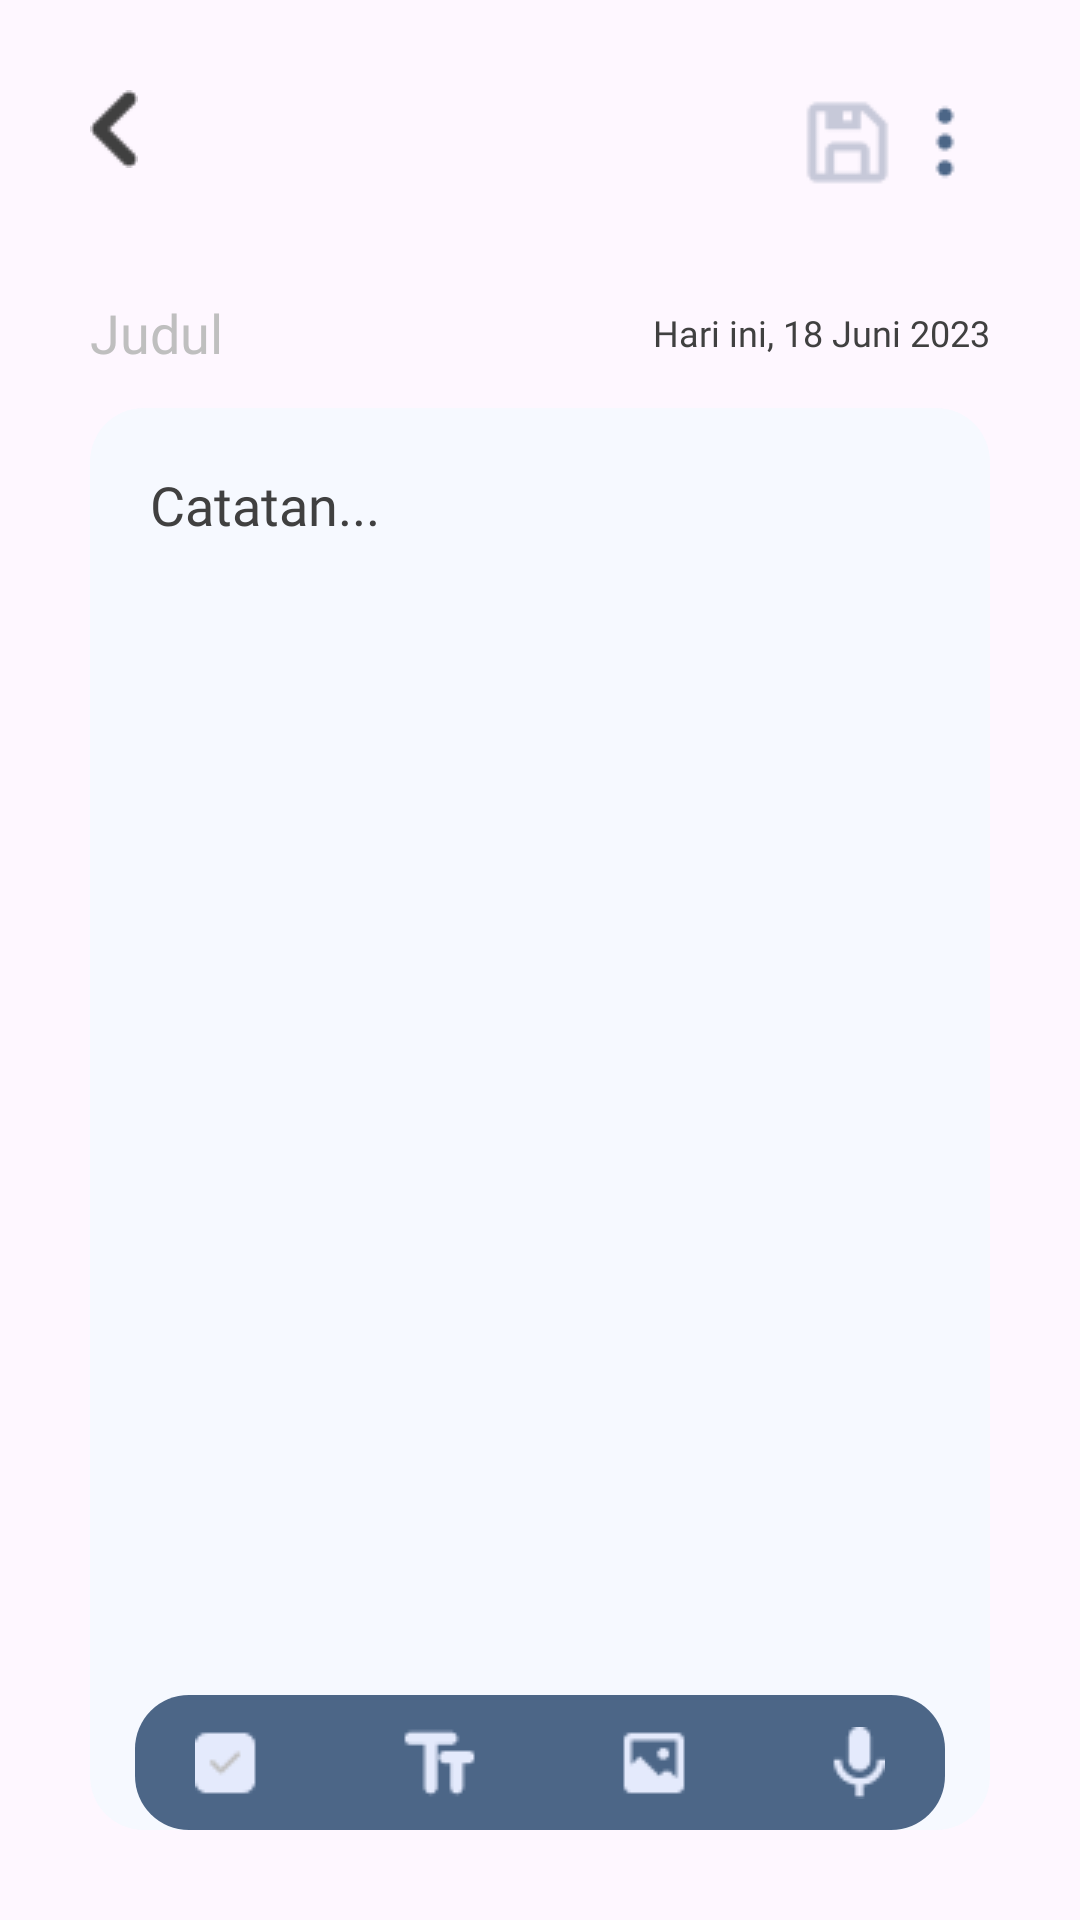

Icon bounding boxes for this 1080px x 1920px phone screenshot, format (x1, y1, x2, y2):
arrow back from search: (90, 90, 138, 168)
more: (935, 107, 955, 177)
save: (808, 103, 887, 182)
